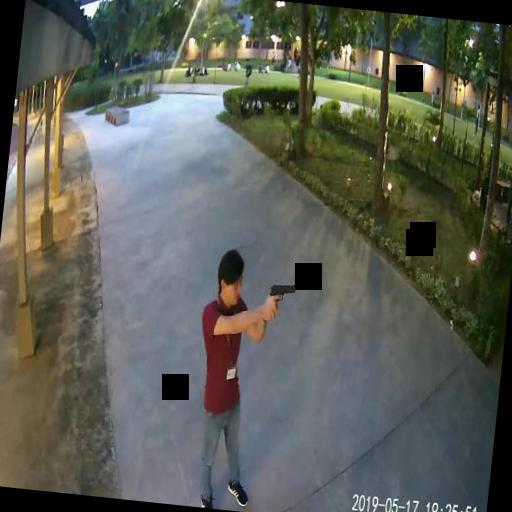Handgun: (266, 280, 296, 316)
